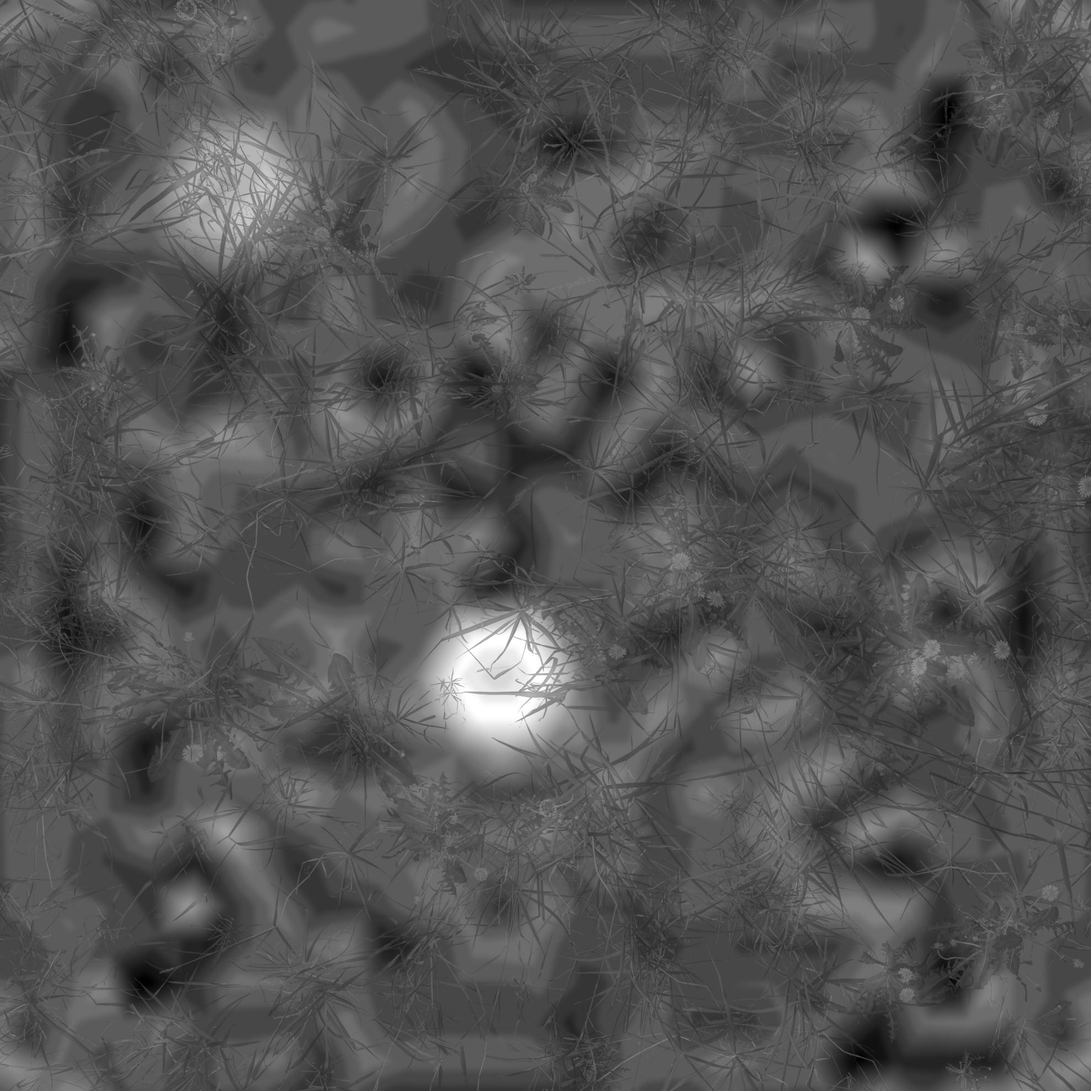landmine: (433, 600, 580, 758), (145, 109, 315, 245)
